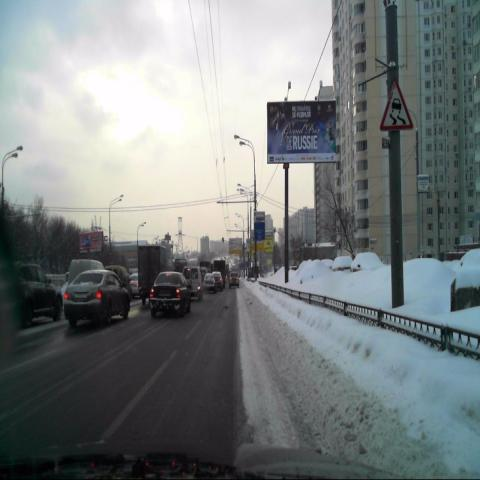1_15: (378, 80, 413, 131)
